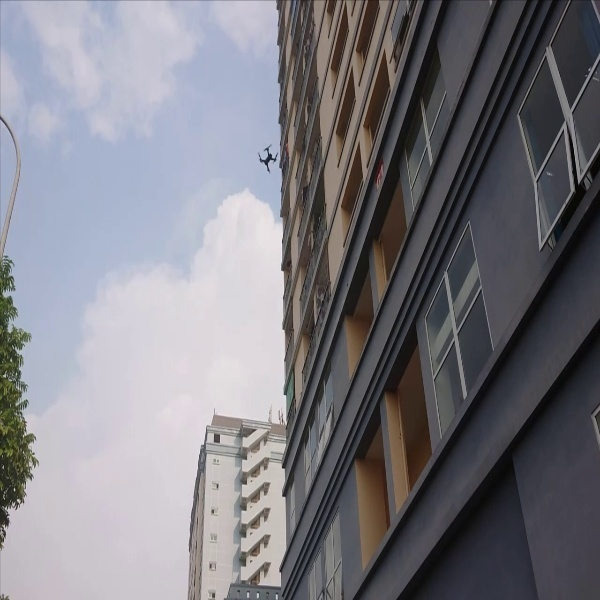drone: (253, 142, 282, 176)
